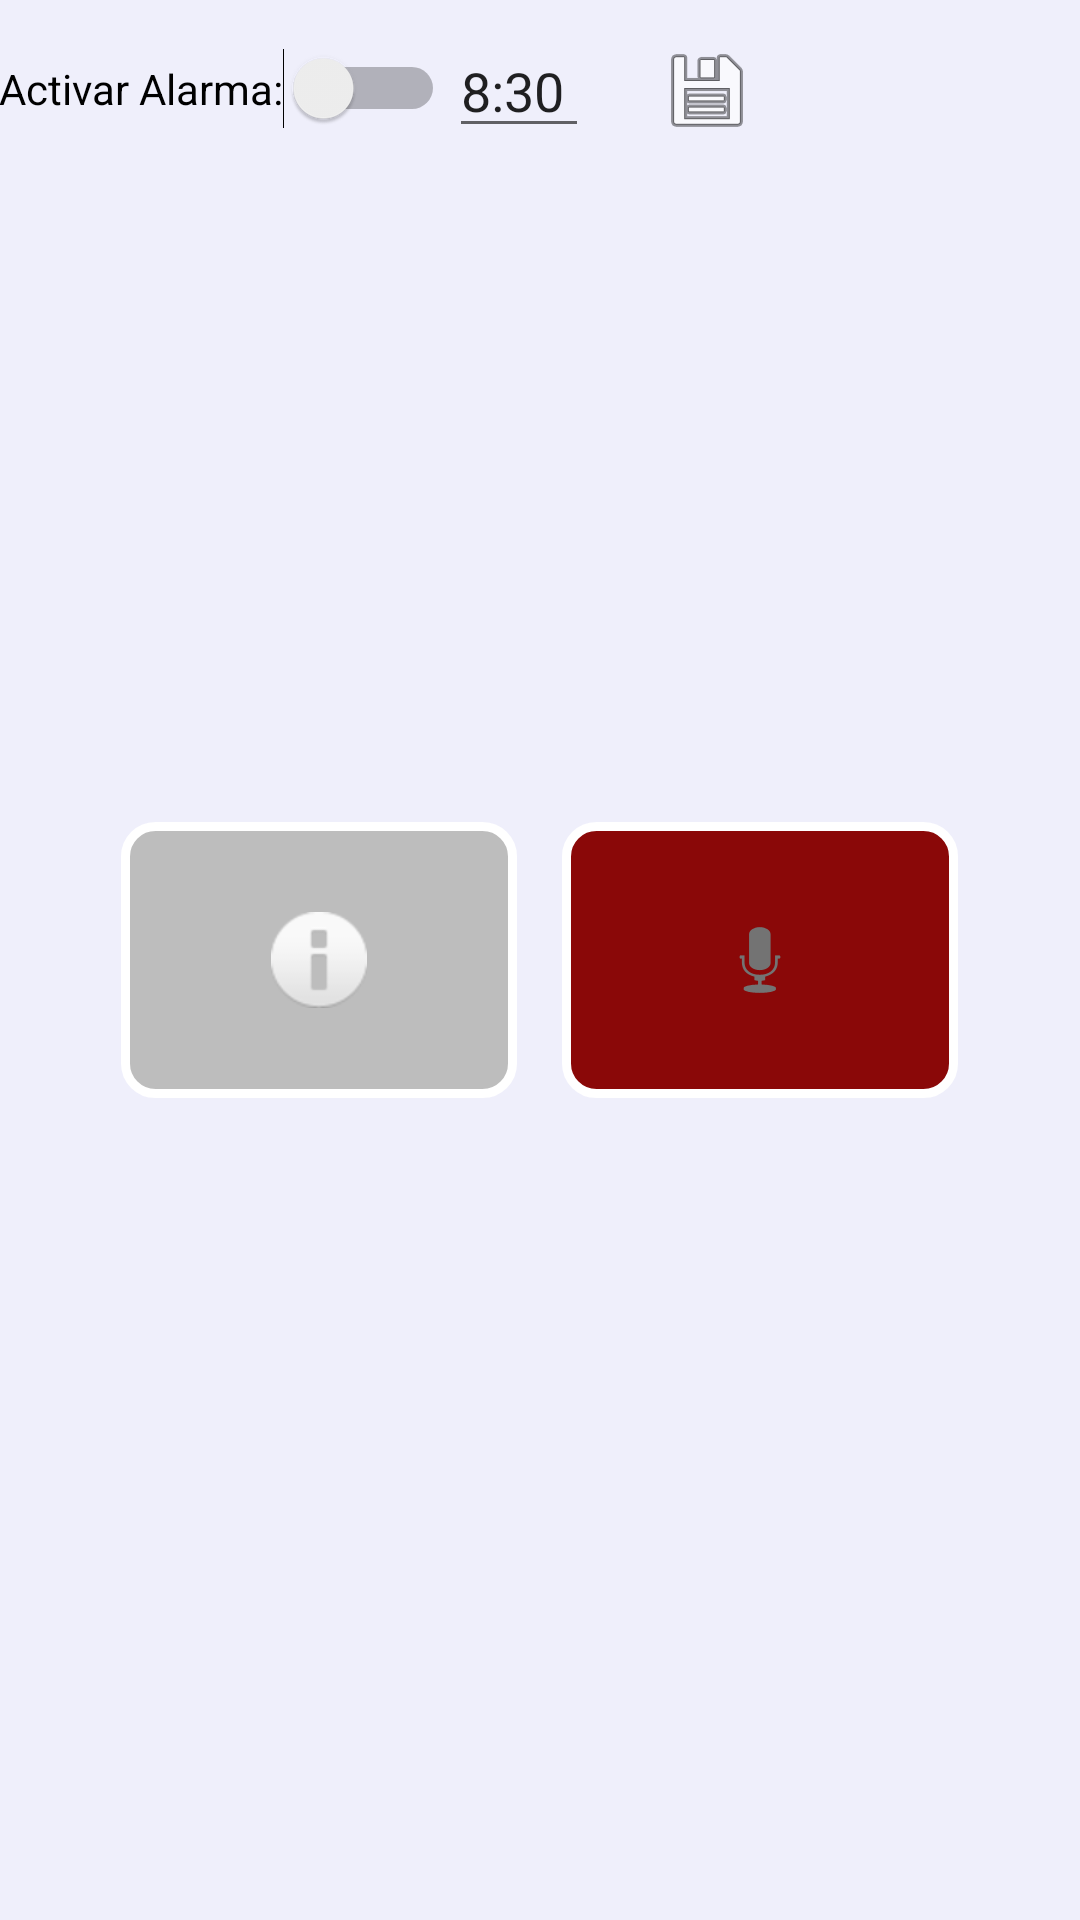

Where to tap for icons on this 1080×1920 app screen, as (x=x, y=y):
save: (x=707, y=90)
